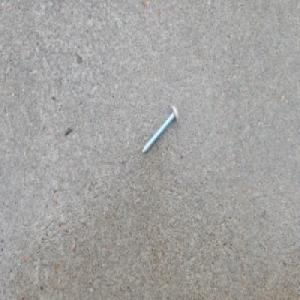Nail: (141, 104, 179, 155)
